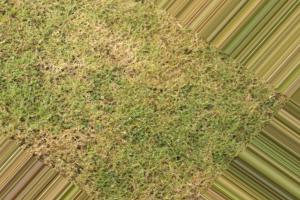patch: (40, 27, 162, 190)
